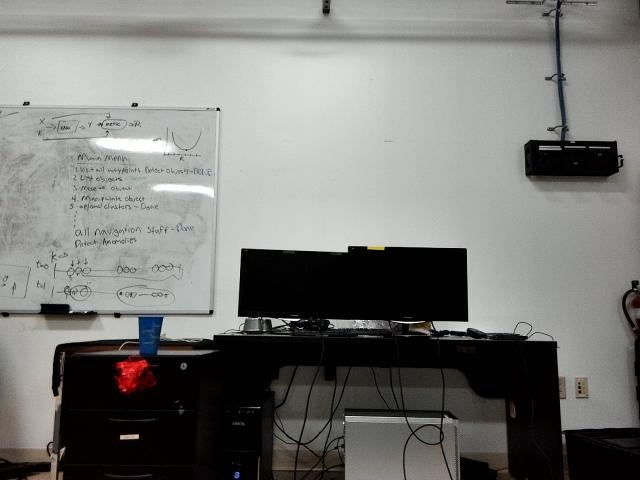water_cup: (134, 312, 165, 356)
